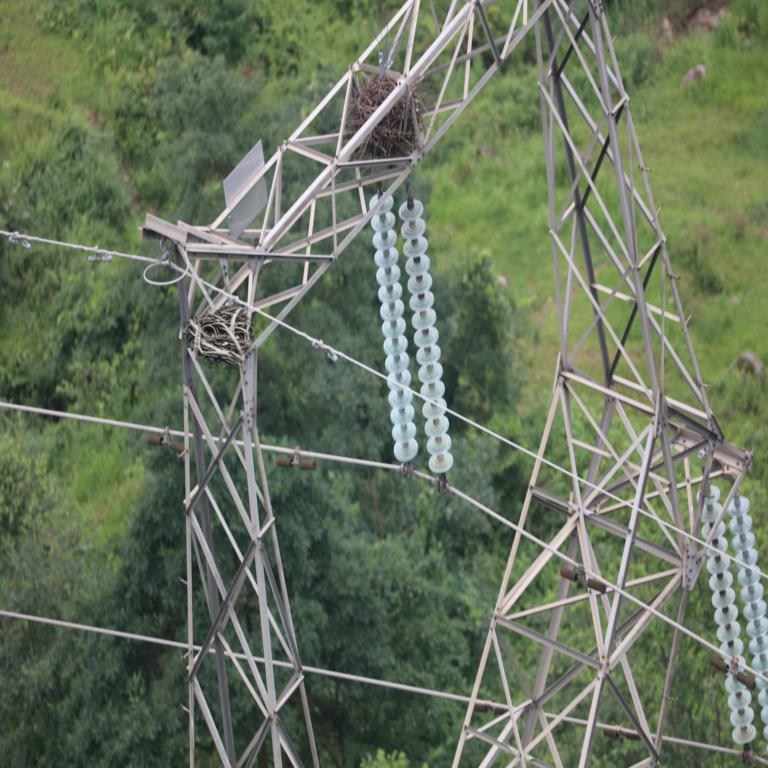nest: (351, 78, 423, 159), (185, 306, 254, 354)
